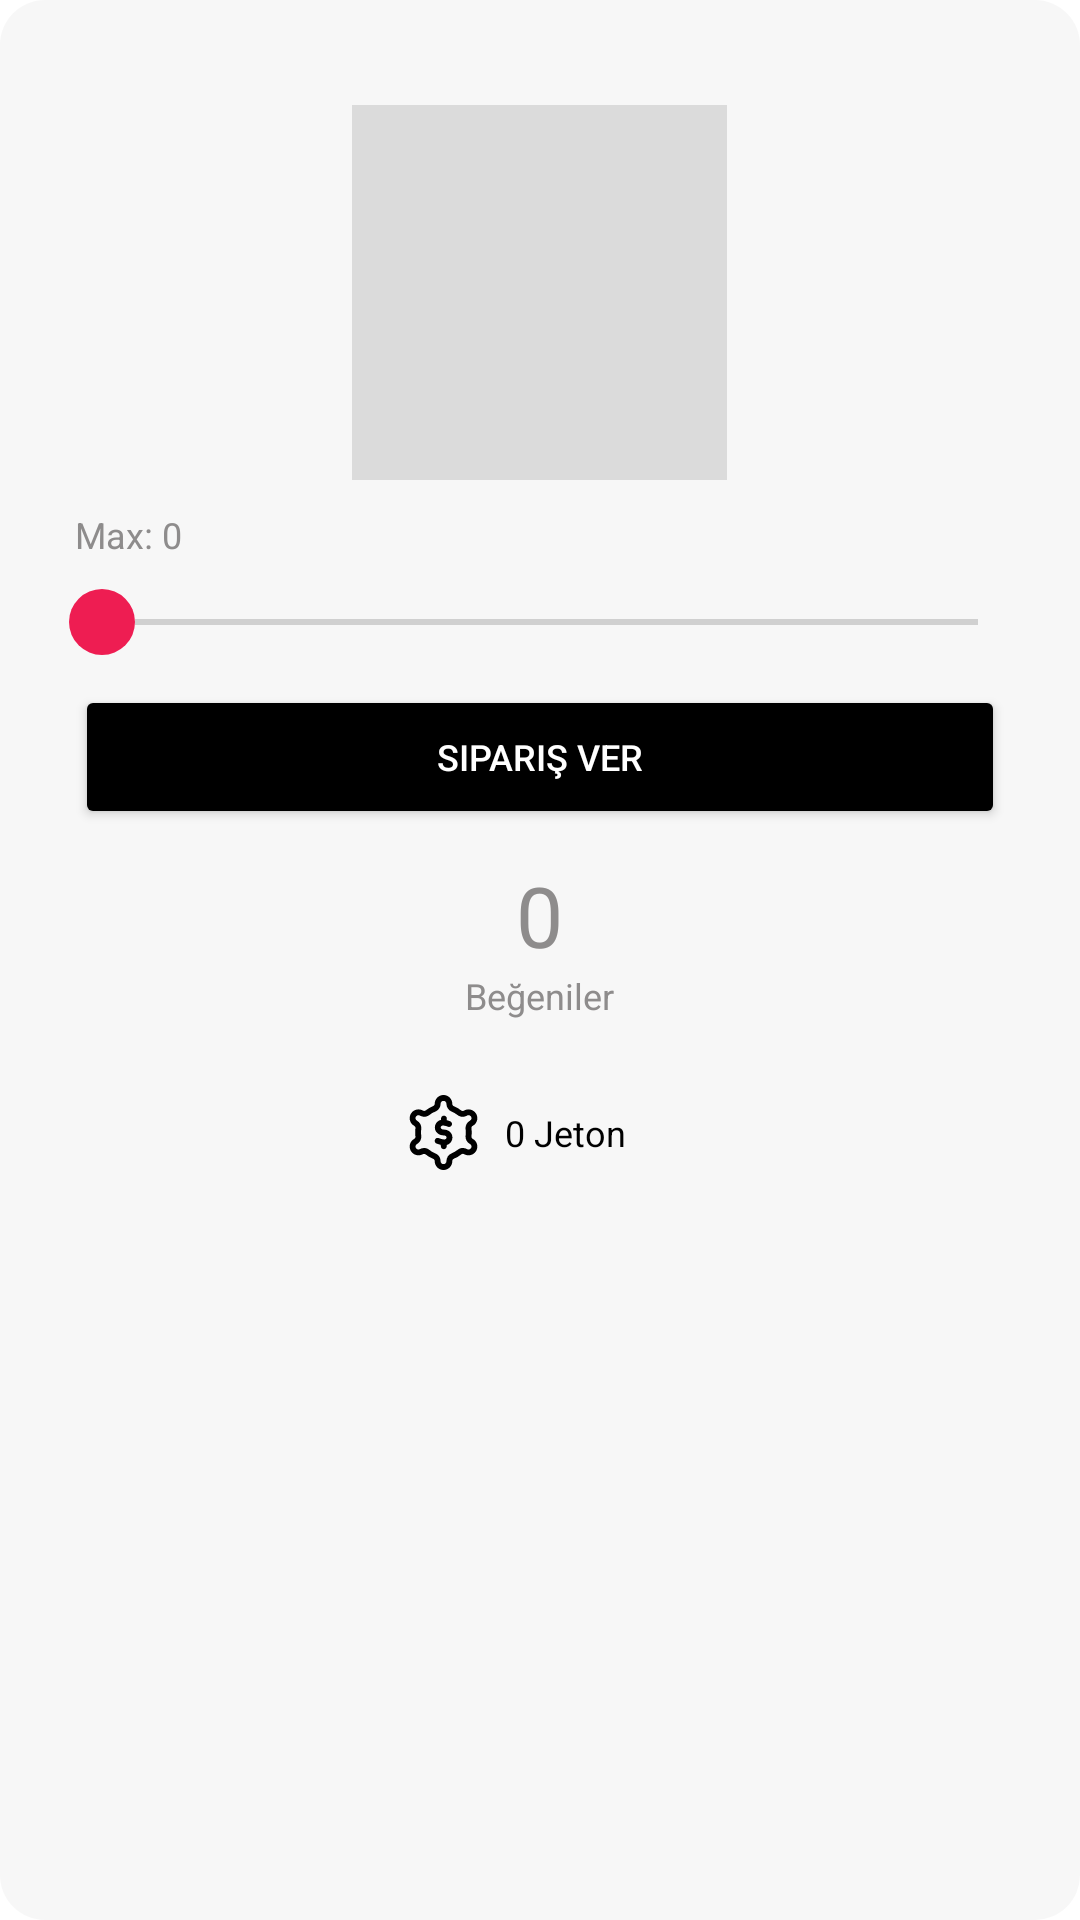

Point at icon controls on the screen. Image size 1080w x 1920h, points as (x=x, y=y).
coin: (x=443, y=1132)
